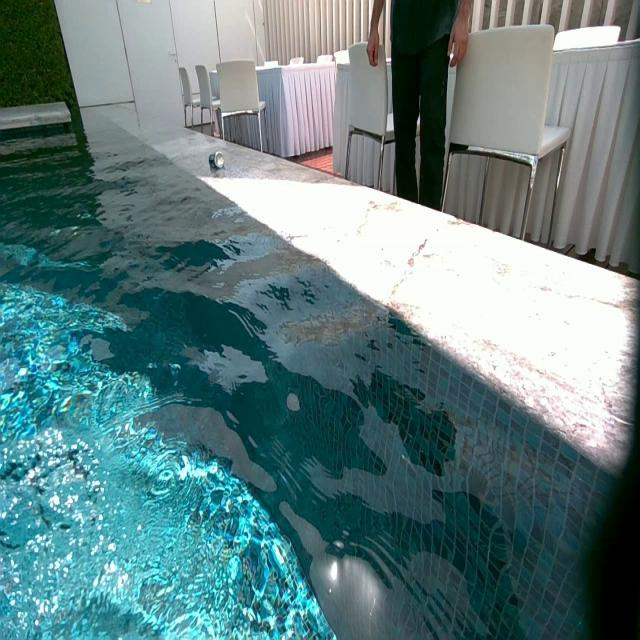Cans: (210, 153, 224, 170)
